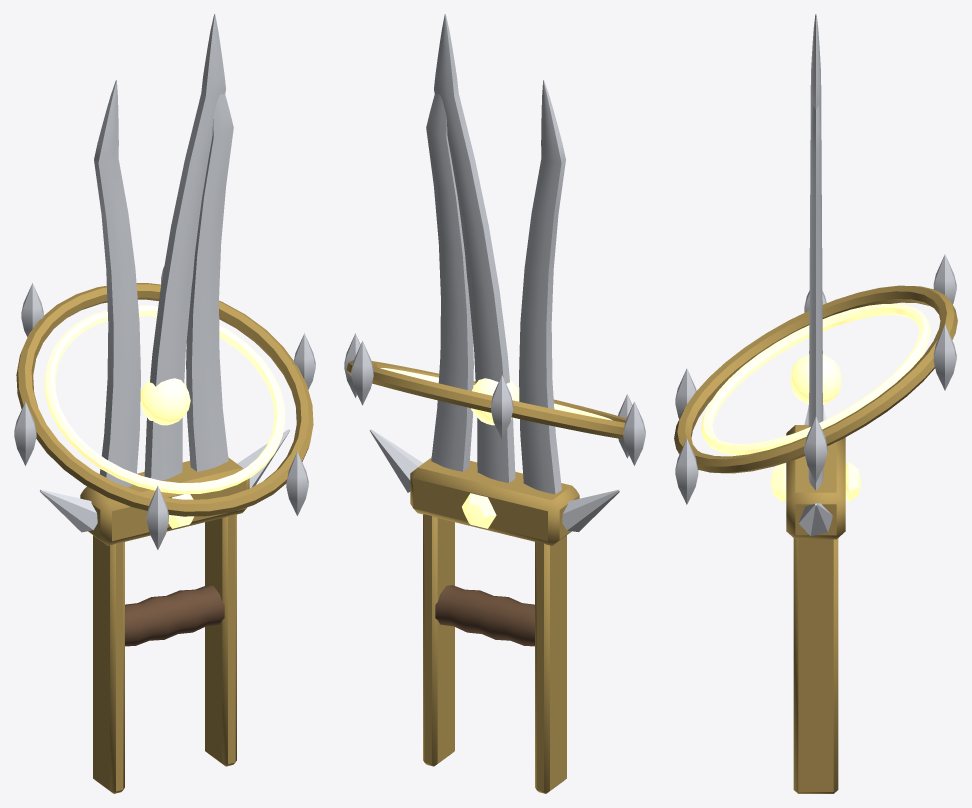
The model's file is esc_w_shadowblade_claw_4.glb.
3 views of the same model, side by side, from view 1: azimuth 30°, elevation 25°; view 2: azimuth 150°, elevation 25°; view 3: azimuth 270°, elevation 25° (orthographic). The views are drawn at different scales.
Parts seen in each view (by area): view 1: esc_w_shadowblade_claw_4; view 2: esc_w_shadowblade_claw_4; view 3: esc_w_shadowblade_claw_4.
Part boxes in pixels (x1,y1,x2,y2): esc_w_shadowblade_claw_4: [14, 14, 315, 793]; esc_w_shadowblade_claw_4: [344, 14, 645, 793]; esc_w_shadowblade_claw_4: [674, 14, 957, 793].
Size of the model in its own units: 0.242 by 0.573 by 0.1918.
